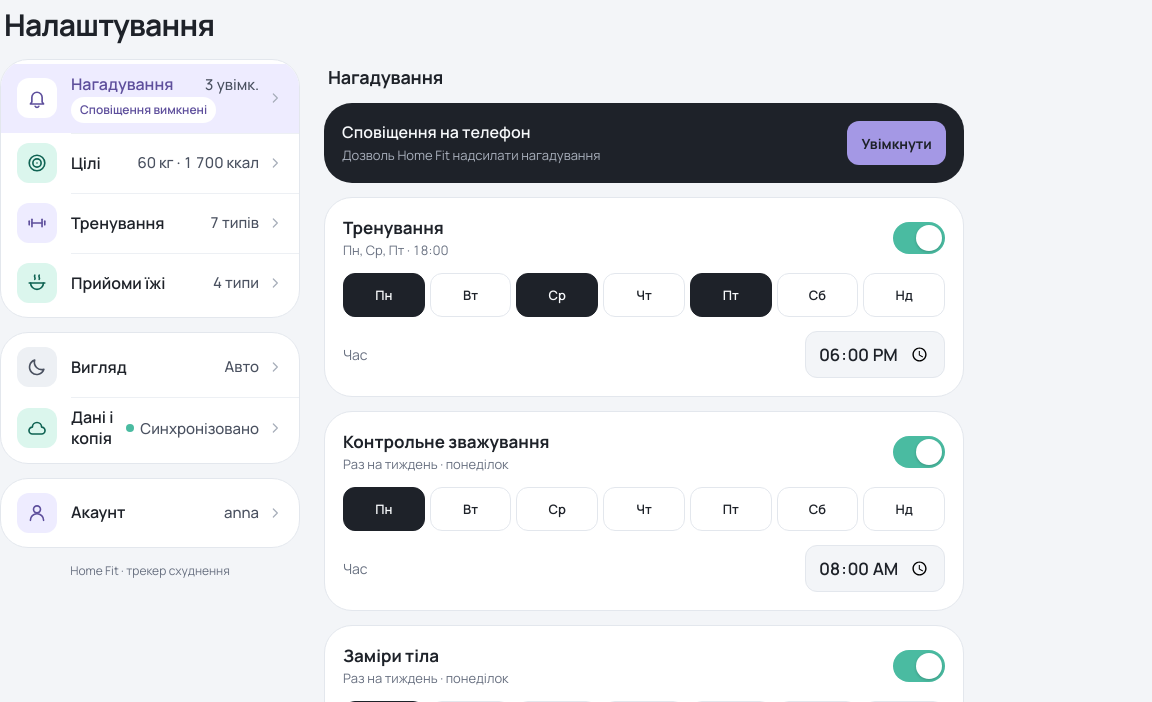
Test: SettingsScreen — desktop (list + detail) › swaps the detail and the URL when another row is picked
Click the link "Цілі 60 кг · 1 700 ккал": (150, 163) [1,133,299,193]
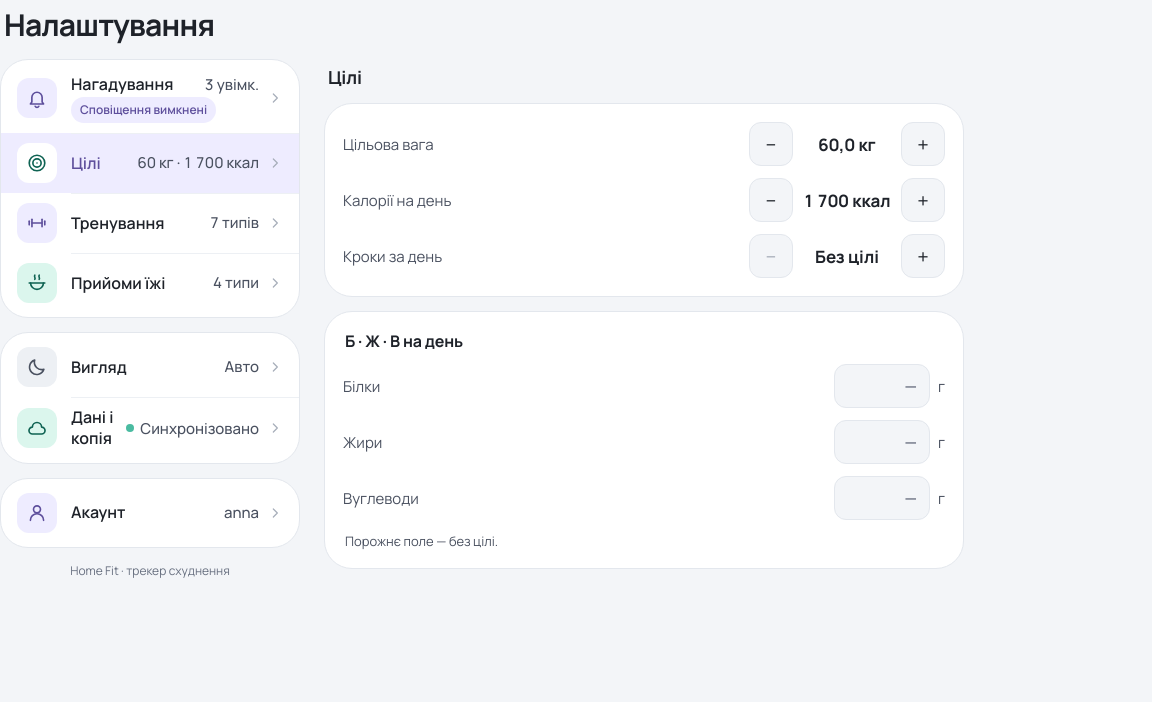
Now the element named "Мої цілі" is shown, box [324,103,964,297]
